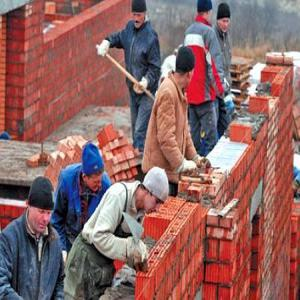blue: (83, 142, 105, 194)
none: (27, 174, 57, 238), (175, 45, 197, 89), (131, 2, 148, 32), (216, 2, 232, 33), (197, 2, 214, 25)
white: (142, 165, 172, 218)
